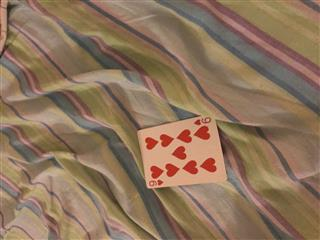NineOfHearts: (136, 114, 227, 190)
